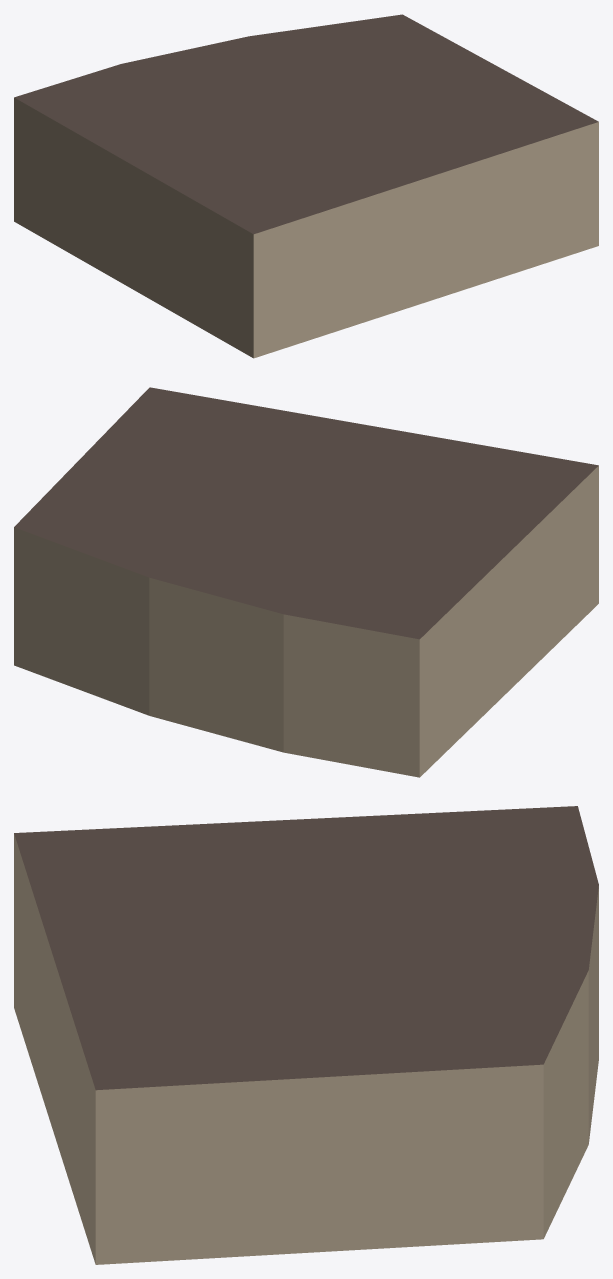
The picture shows the model from 3 angles, top to bottom: view 1: azimuth 30°, elevation 25°; view 2: azimuth 150°, elevation 25°; view 3: azimuth 270°, elevation 25°; orthographic projection. The views are drawn at different scales.
Parts seen in each view (by area): view 1: HP-w1366792087; view 2: HP-w1366792087; view 3: HP-w1366792087.
Boxes of the visible parts, x1,y1,x2,y2 form: HP-w1366792087: [14, 14, 598, 358]; HP-w1366792087: [14, 387, 598, 777]; HP-w1366792087: [14, 806, 598, 1264].
Size of the model in its own units: 31.4 by 9 by 27.31.
